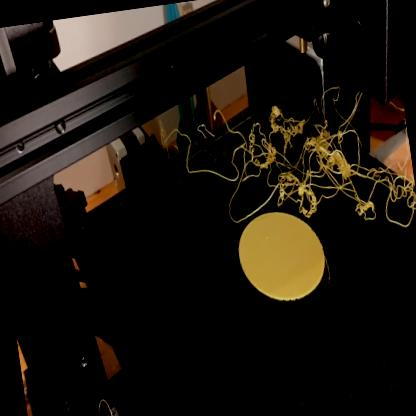fail: (232, 98, 374, 219), (369, 159, 416, 236)
